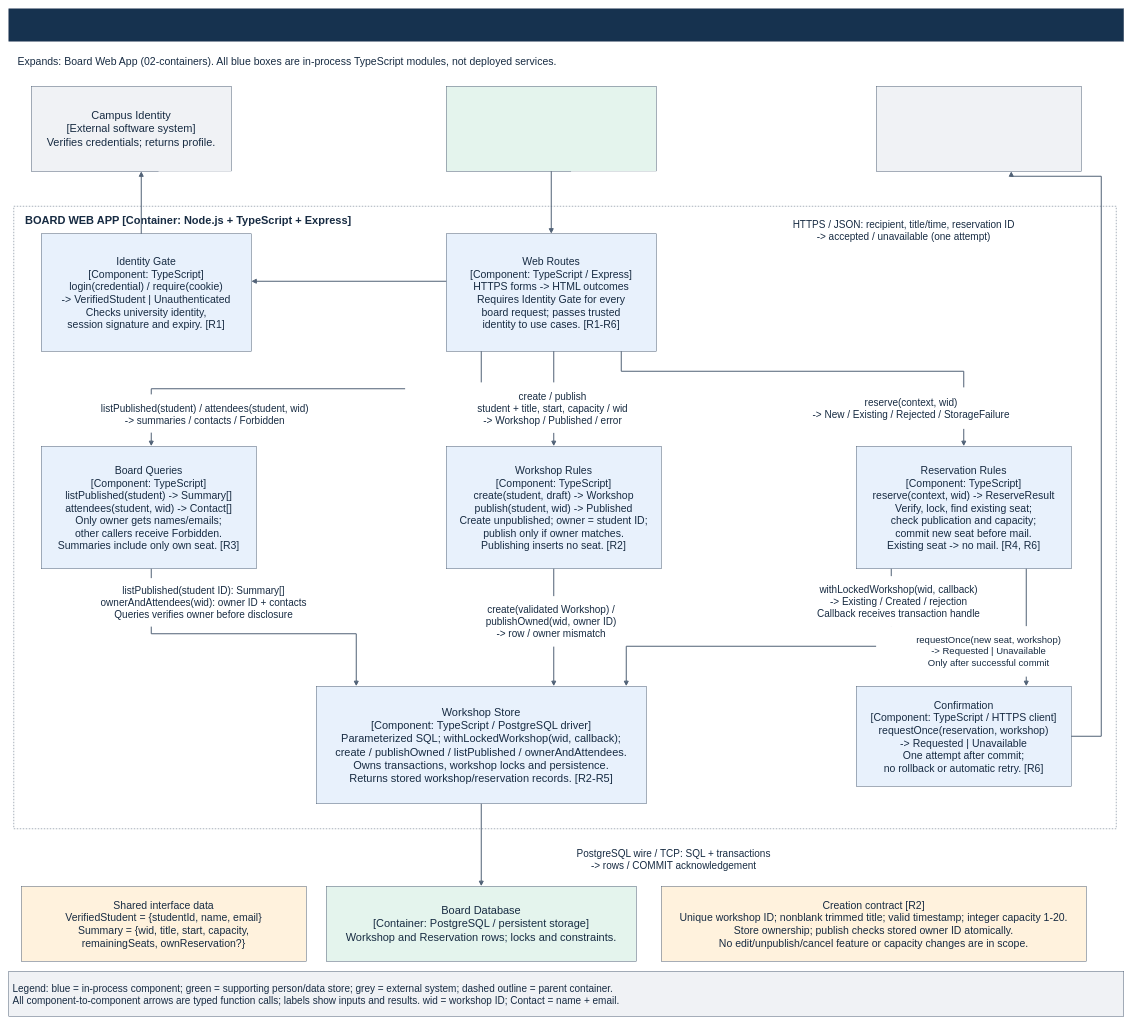
Some shapes in this 1133 by 1025 pixel diagram are drawn without their labels. Each missing label, with the centre of its shape:
"03 | Components - Board Web App" goes at (566,24).
"HTTPS / JSON: credential -> student ID, name, email" goes at (271,187).
"HTTPS: path, form, cookie / HTML" goes at (711,186).
"login(credential) / require(cookie) -> trusted profile or rejection" goes at (348,257).
"University Mail [External software system] Accepts email or is unavailable." goes at (978,128).
"University Student [Person using a browser] Forms, session cookie, HTML." goes at (551,128).
